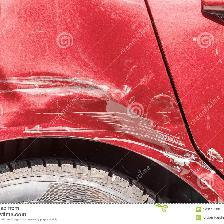dent: (0, 31, 224, 204)
scrach: (4, 66, 214, 186)
